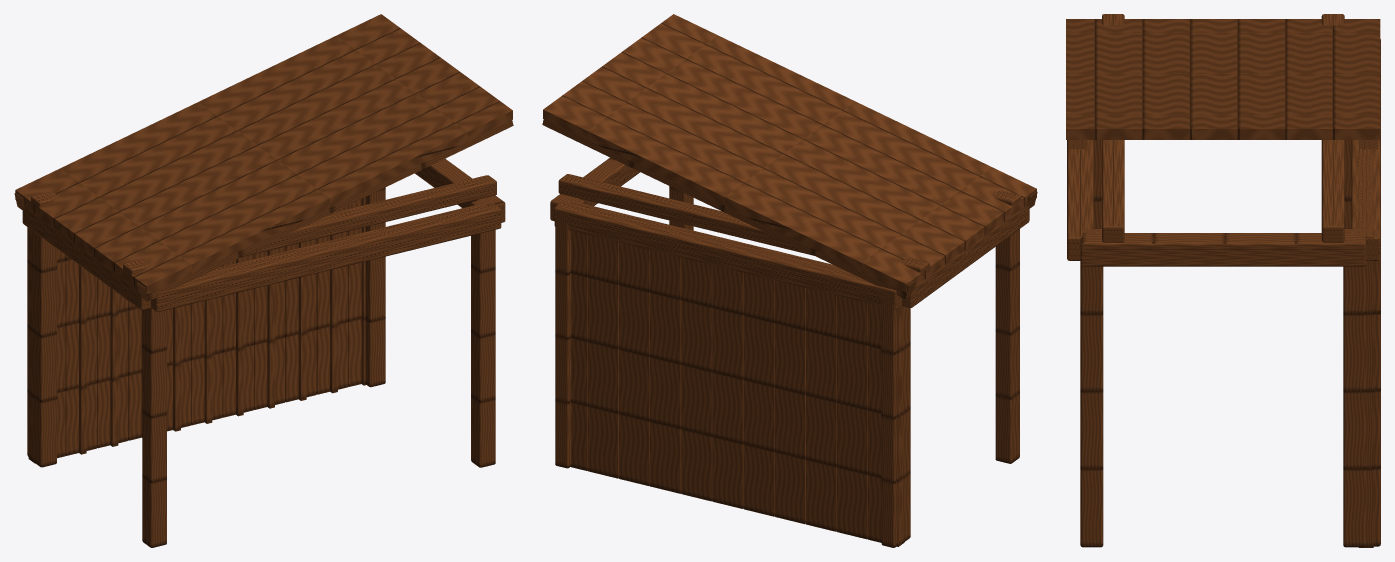
Rendered from roadside-survival-stops-roadside-rain-shelter-ab1fb56a__23546.glb.
3 renders of one model, left to right at view 1: azimuth 30°, elevation 25°; view 2: azimuth 150°, elevation 25°; view 3: azimuth 270°, elevation 25°, orthographic. The views are drawn at different scales.
Visible parts, largest first — view 1: roadside-rain-shelter; view 2: roadside-rain-shelter; view 3: roadside-rain-shelter.
Part boxes in pixels (x1,y1,x2,y2): roadside-rain-shelter: [14, 14, 513, 547]; roadside-rain-shelter: [542, 14, 1037, 547]; roadside-rain-shelter: [1066, 14, 1380, 547].
Size of the model in its own units: 2.67 by 2.46 by 1.65.
2 materials, 1 textured.
